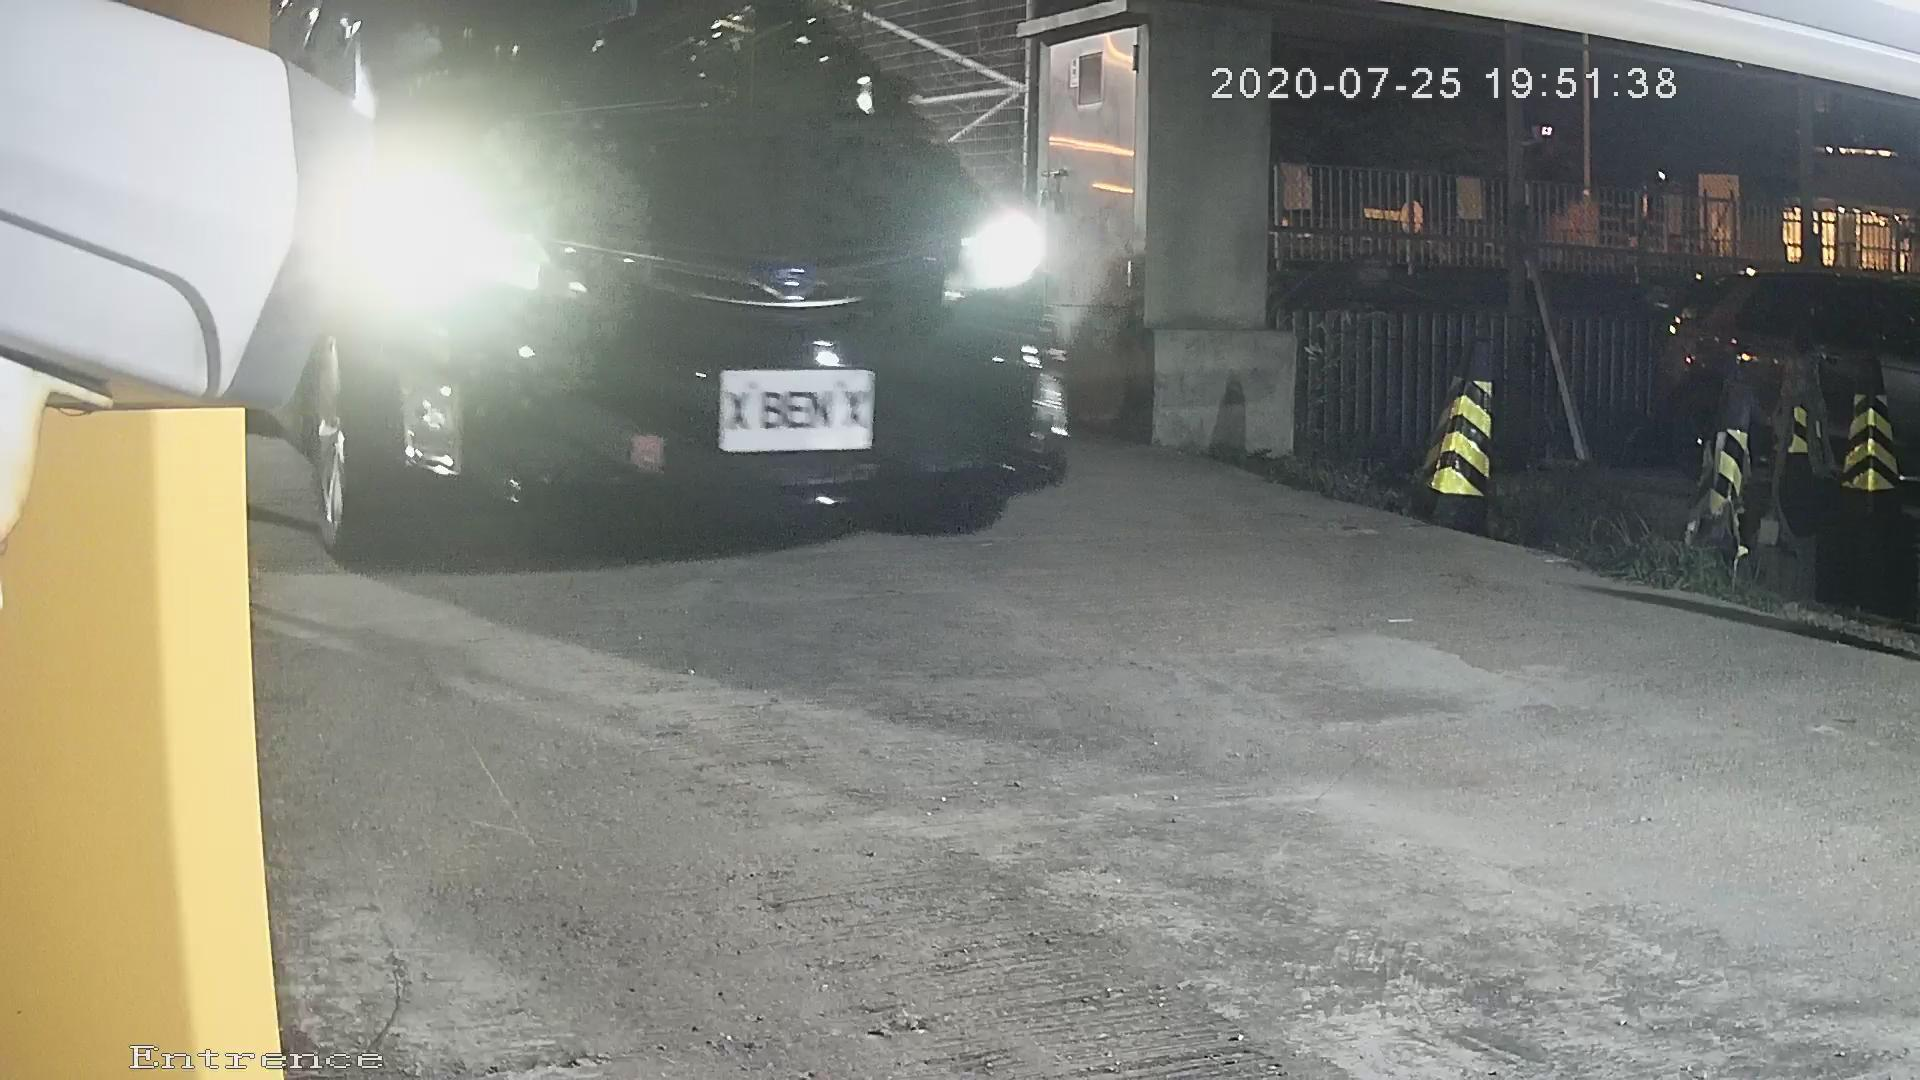privatecar: (171, 1, 1131, 593)
